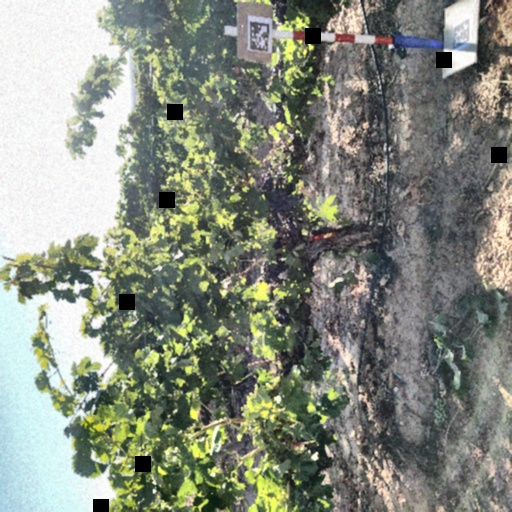QR: (250, 23, 269, 50)
